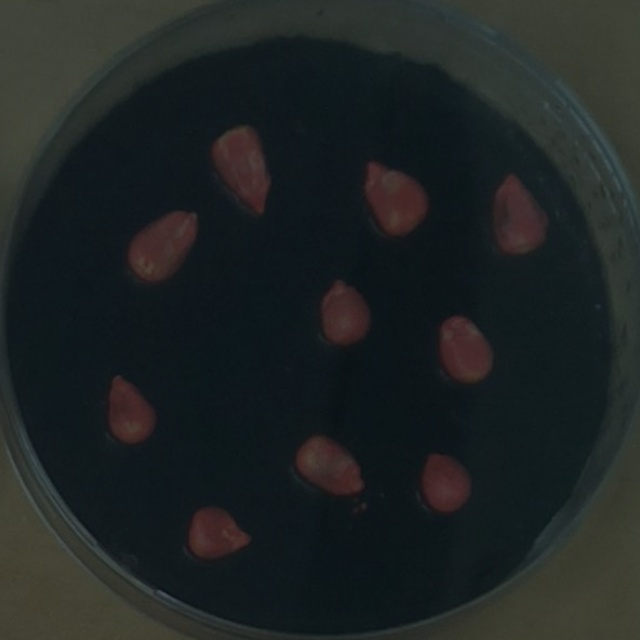Zea mays: (201, 113, 280, 223), (116, 200, 208, 289), (353, 151, 438, 244), (485, 163, 555, 263), (287, 425, 372, 504), (430, 305, 502, 393), (310, 268, 380, 354), (180, 498, 260, 567), (412, 442, 481, 522), (99, 365, 164, 449)
